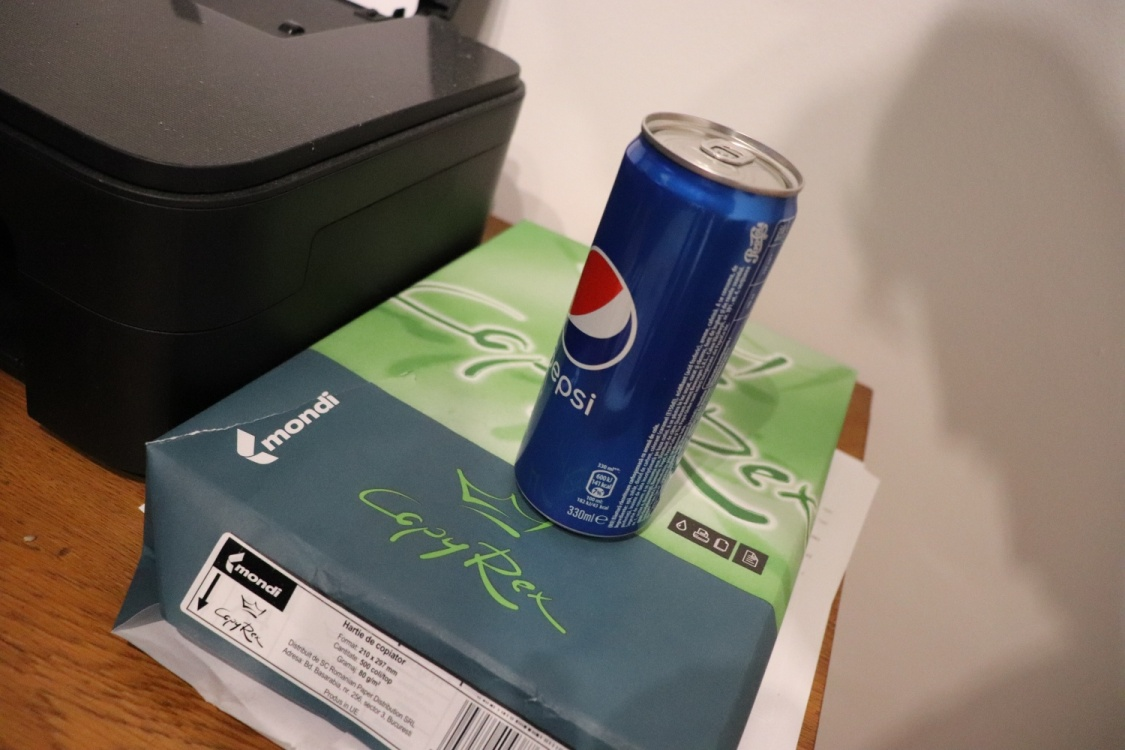pepsi: (507, 99, 808, 550)
